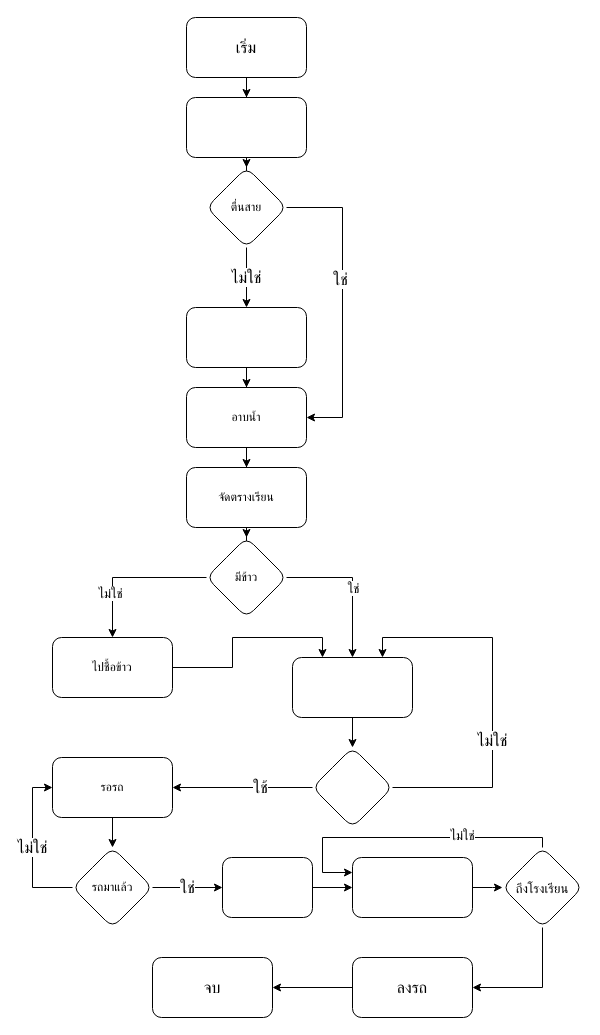
The diagram is 600 pixels wide and 1035 high, and some of its shapes have lost their labels. Each missing label, with the box of its shape:
กินข้าว: (292, 656, 412, 718)
กินอิ่ม: (312, 746, 392, 828)
ขึ้นรถ: (222, 856, 312, 918)
ตื่นนอน: (186, 96, 306, 158)
พับผ้าห่ม: (186, 306, 306, 368)
รอรถถึงโรงเรียน: (352, 856, 472, 918)
